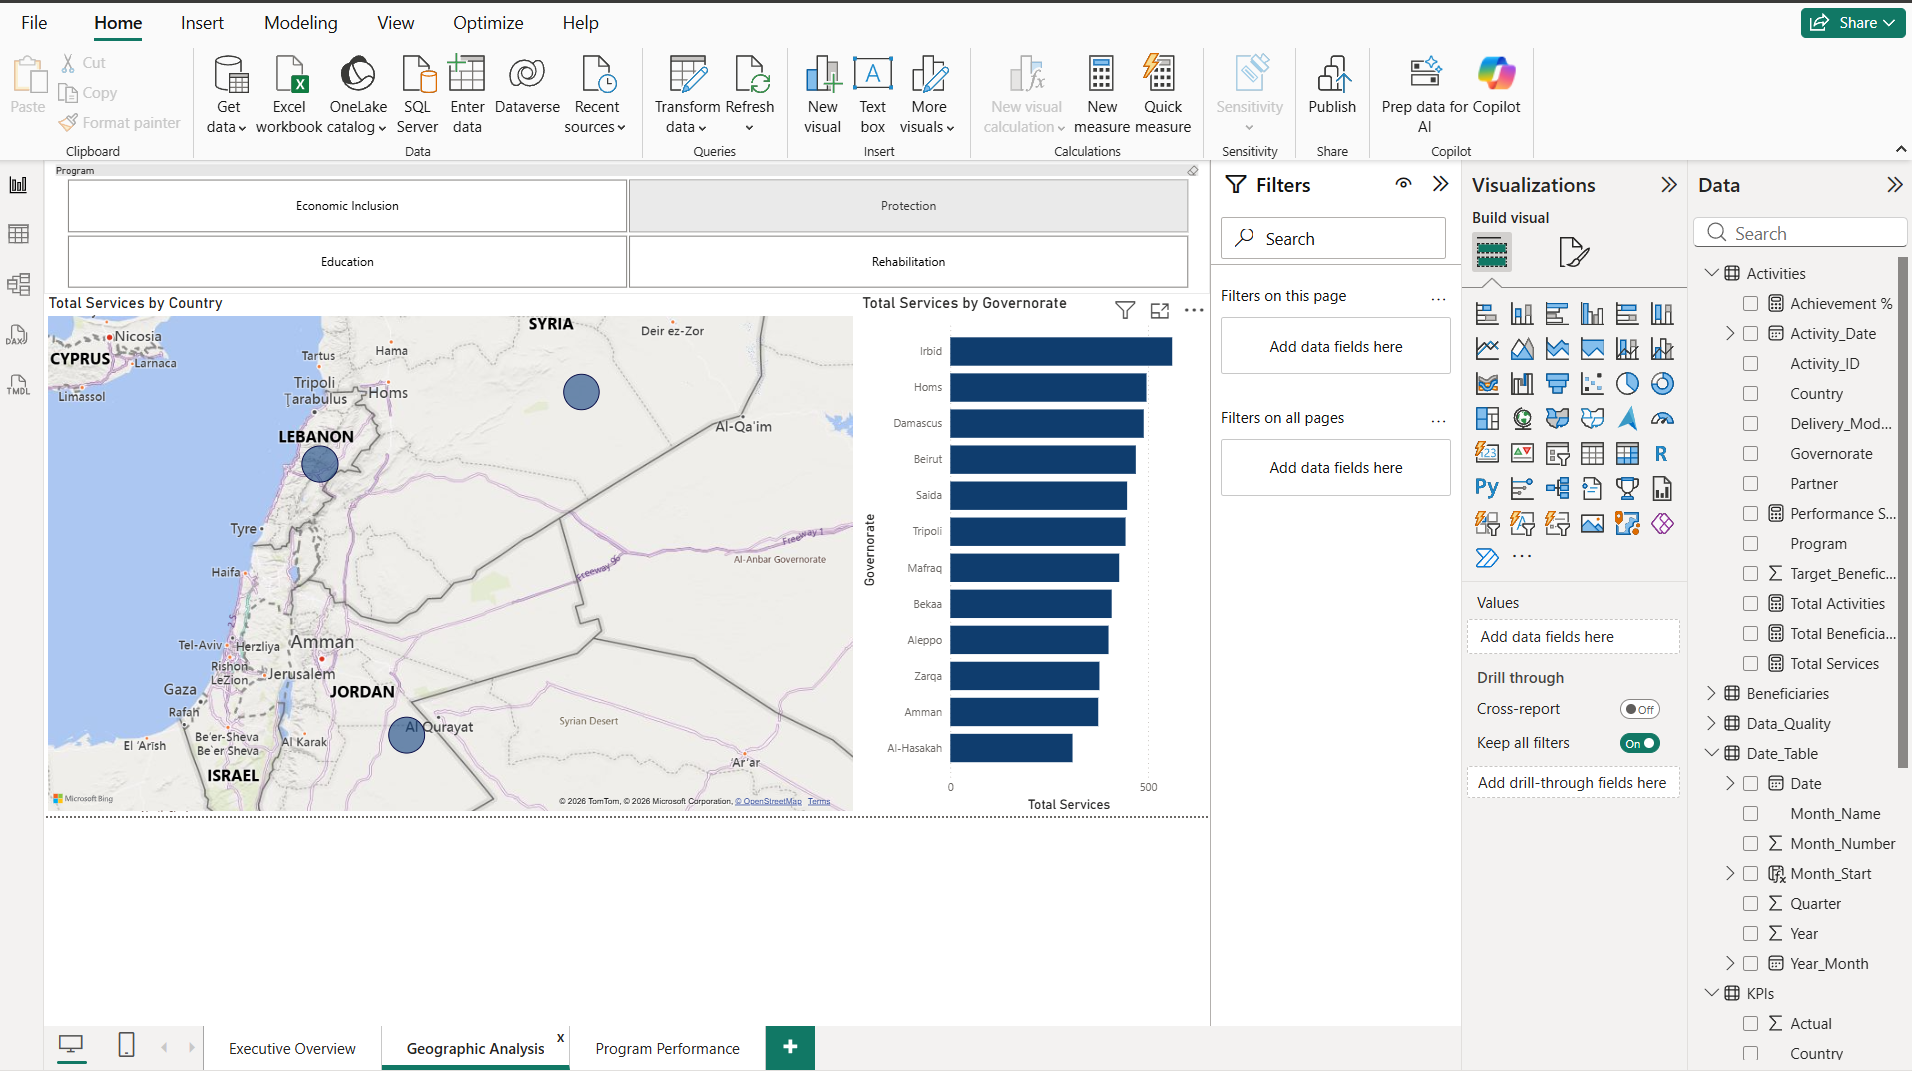

The dashboard page shown, as its layout file describes it:
{"tool":"powerbi","page":{"name":"Geographic Analysis","canvas":[1280,720],"ordinal":1},"visuals":[{"type":"map","fields":{"Category":["Activities.Country","Activities.Governorate"],"Size":["Activities.Total Services"]},"box":[0,146.8,893.3,573.6],"z":0},{"type":"clusteredBarChart","fields":{"Category":["Activities.Governorate"],"Y":["Activities.Total Services"]},"box":[893.3,146.8,377.4,573.6],"z":1},{"type":"slicer","fields":{"Values":["Activities.Program"]},"box":[0,0,1280.3,146.8],"z":2}]}

Visuals, with their boxes on the page's 1280x720 design canvas (x1, y1, x2, y2). These are canvas units, not pixel positions in the 1912x1071 screenshot, which may show the page scaled, cropped or inside an application window:
map - Activities.Country x Activities.Governorate: [x1=0, y1=147, x2=893, y2=720]
clusteredBarChart - Activities.Governorate x Activities.Total Services: [x1=893, y1=147, x2=1271, y2=720]
slicer - Activities.Program: [x1=0, y1=0, x2=1280, y2=147]
